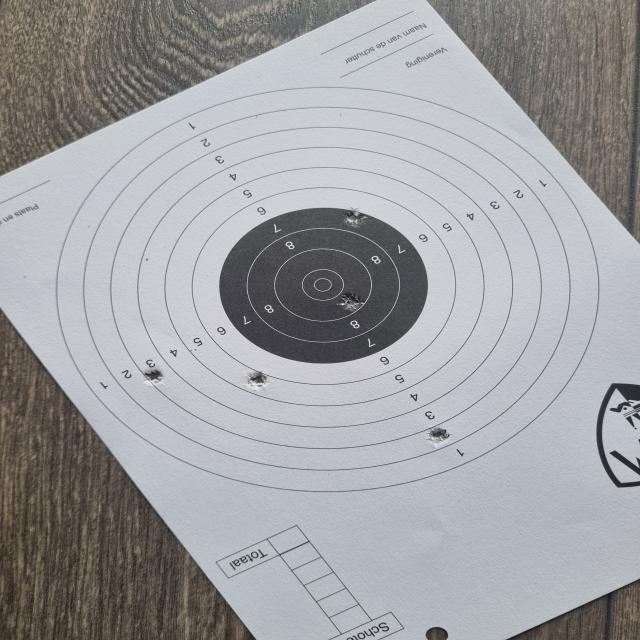3: (426, 426, 452, 444), (142, 367, 164, 386)
6: (244, 371, 272, 387)
7: (342, 207, 368, 227)
9: (338, 292, 365, 312)
Target: (56, 86, 600, 493)
black_contour: (219, 208, 428, 364)
